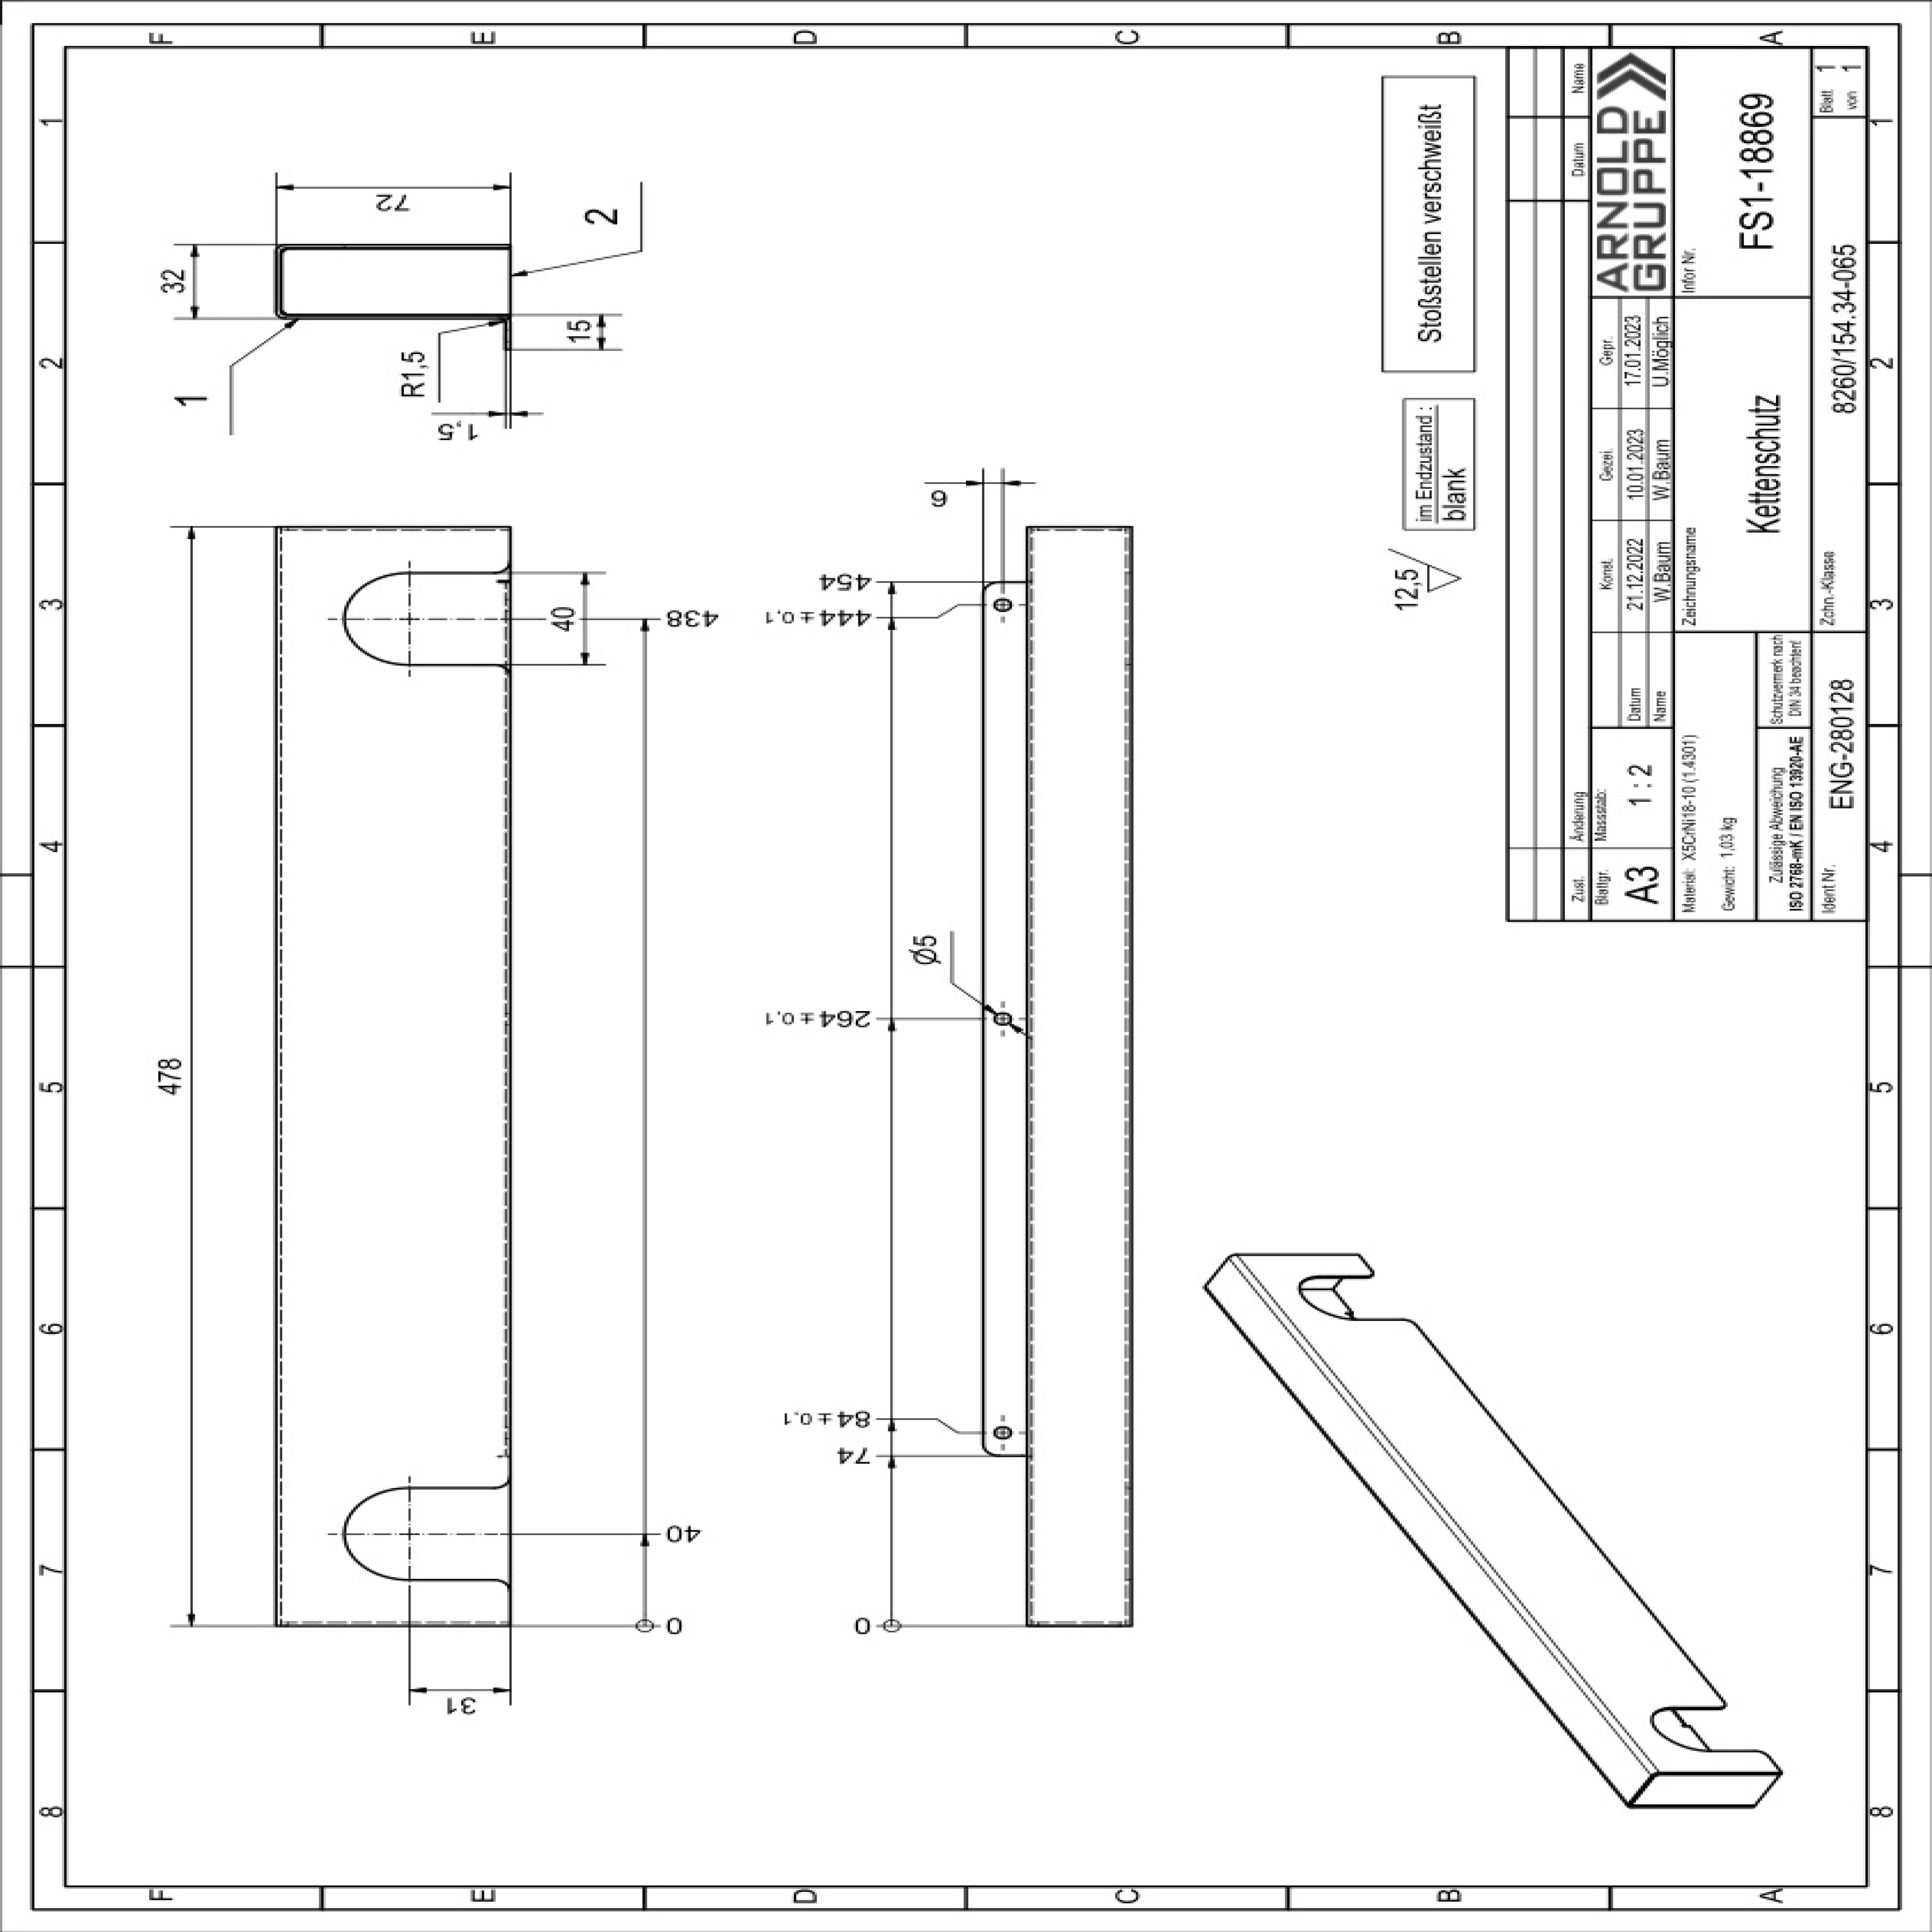InnerContour: (991, 1424, 1016, 1442), (993, 1008, 1014, 1028), (993, 594, 1012, 614)
Notch: (334, 1472, 520, 1592), (336, 559, 522, 672)
